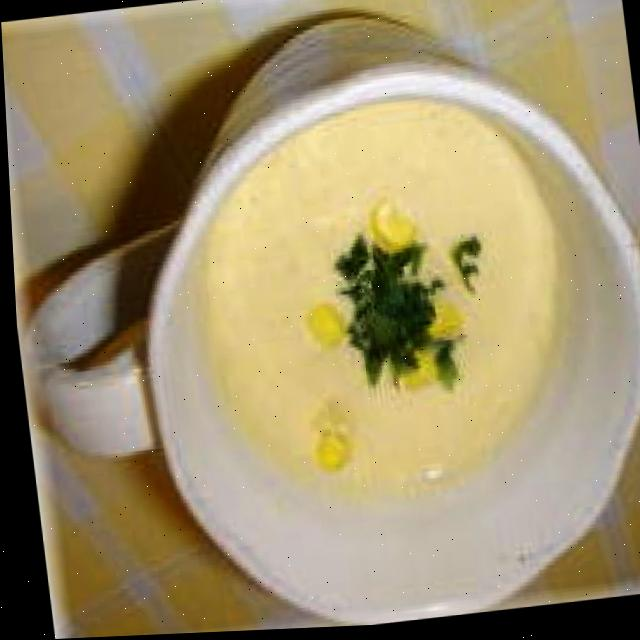汤锅炖物: (106, 0, 640, 631)
